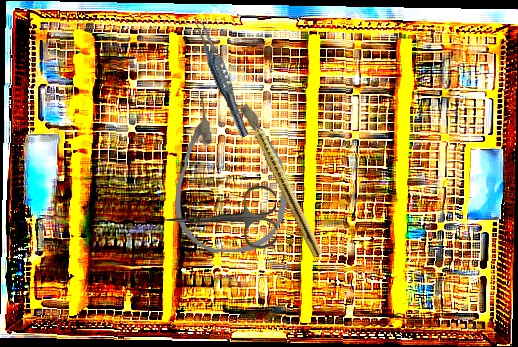Cannula: (171, 95, 290, 254)
Handpiece: (245, 112, 326, 258)
Iris Scissors: (163, 185, 278, 251)
Tissue Forceps: (188, 15, 255, 140)
